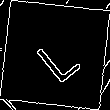L_NW: (27, 26, 83, 84)
